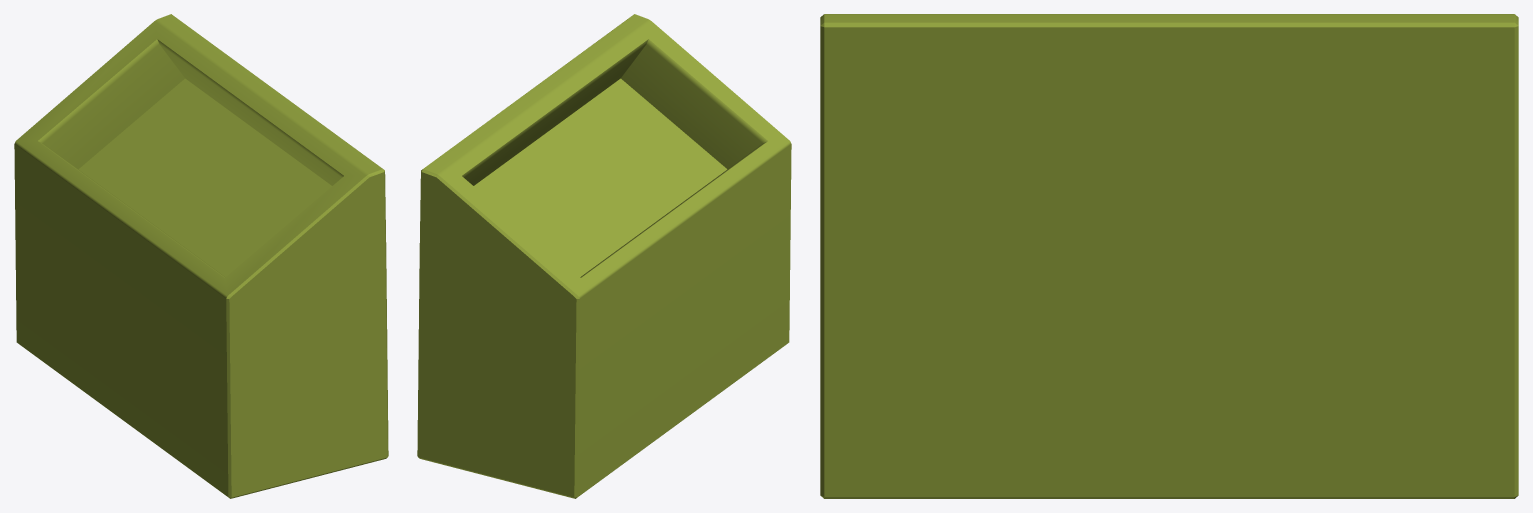
The model's file is Tarot_Card_Box.fbx.
3 views of the same model, side by side, from view 1: azimuth 30°, elevation 25°; view 2: azimuth 150°, elevation 25°; view 3: azimuth 270°, elevation 25° (orthographic). The views are drawn at different scales.
Parts seen in each view (by area): view 1: Tarot_Card_Box; view 2: Tarot_Card_Box; view 3: Tarot_Card_Box.
Part boxes in pixels (<box>): Tarot_Card_Box: <box>14,14,388,498</box>; Tarot_Card_Box: <box>417,14,791,498</box>; Tarot_Card_Box: <box>820,14,1518,498</box>.
Bounding box in the file's own units: 10.42 × 17.96 × 23.81.
